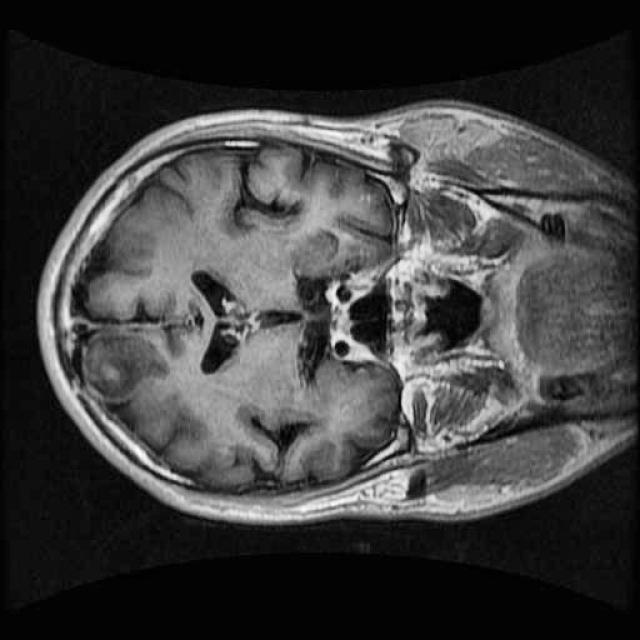Non-Tumor: (68, 319, 180, 421)
